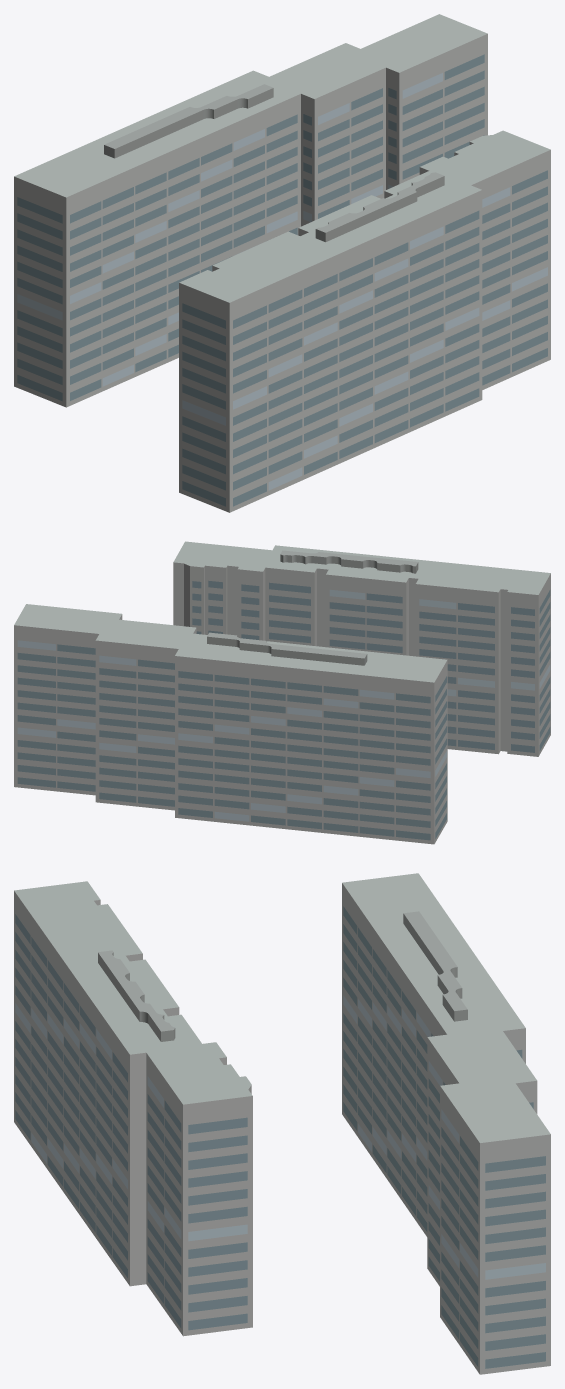
The model's file is apt-a13510202.glb.
3 renders of one model, top to bottom at view 1: azimuth 30°, elevation 25°; view 2: azimuth 150°, elevation 25°; view 3: azimuth 270°, elevation 25°, orthographic. The views are drawn at different scales.
Visible parts, largest first — view 1: apt-a13510202; view 2: apt-a13510202; view 3: apt-a13510202.
Boxes of the visible parts, x1,y1,x2,y2 form: apt-a13510202: (14,14,550,512); apt-a13510202: (14,541,550,844); apt-a13510202: (14,873,550,1374).
Bounding box in the file's own units: 99.14 × 41.43 × 83.32.
